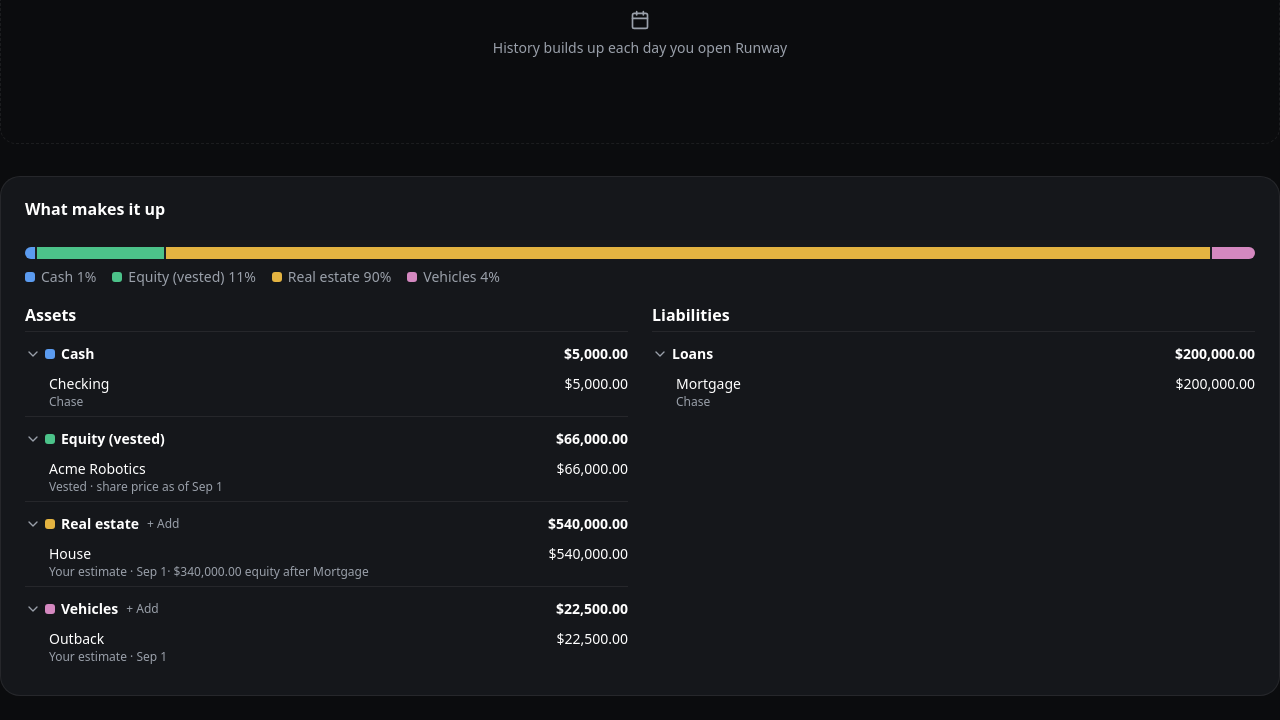
it: the breakdown › adds to a group with its + Add, starting on that kind
(page scrolled)
Click the button with aria-label "Add to Vehicles" at coordinates (142, 609), box left=126, top=601, right=159, bottom=617
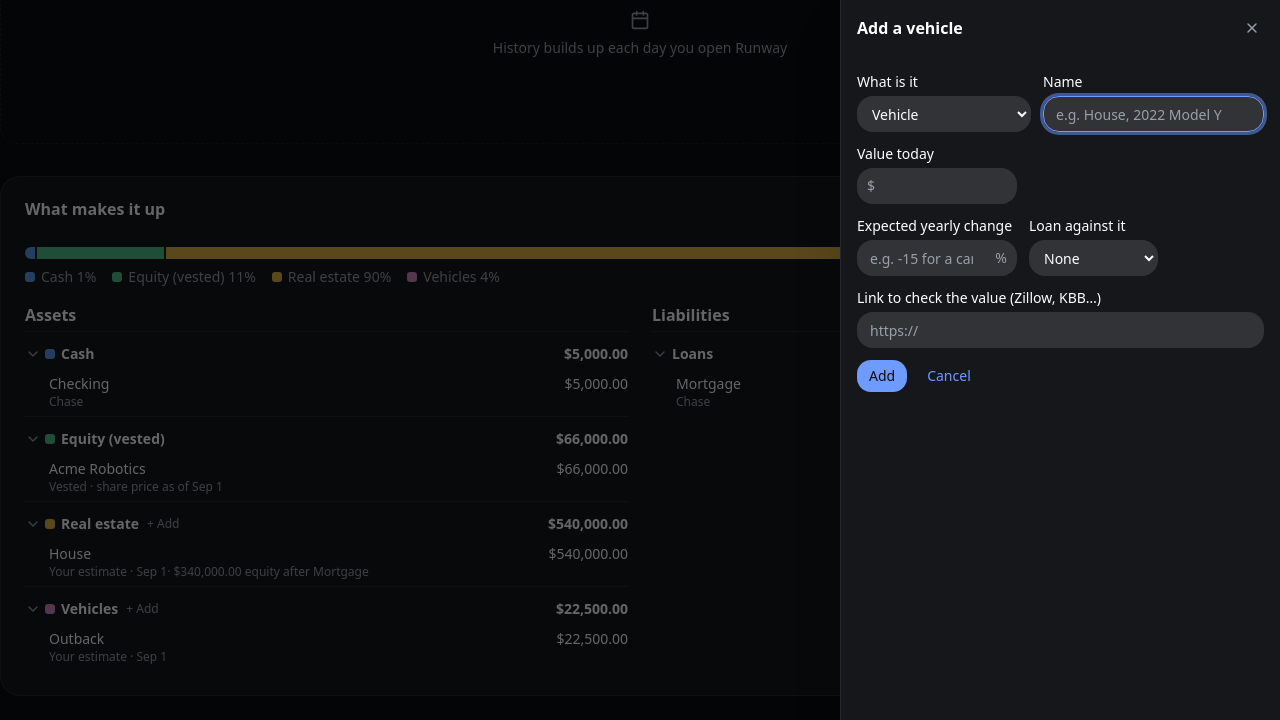
Expected: the dropdown labelled "What is it" shows "Vehicle", left=857, top=96, right=1031, bottom=132
Type "Bike" into the field labelled "Name" at coordinates (1154, 114), box left=1043, top=96, right=1264, bottom=132
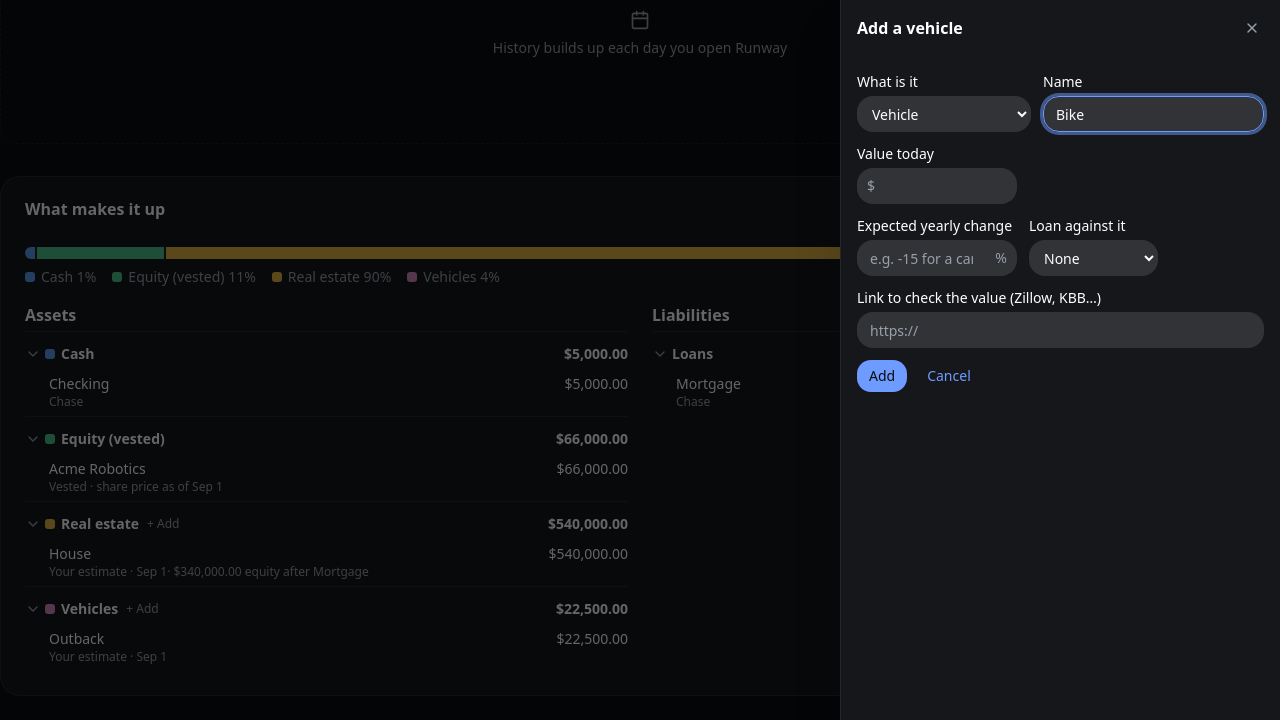
Type "800" into the field labelled "Value today $" at coordinates (937, 186), box left=857, top=168, right=1017, bottom=204
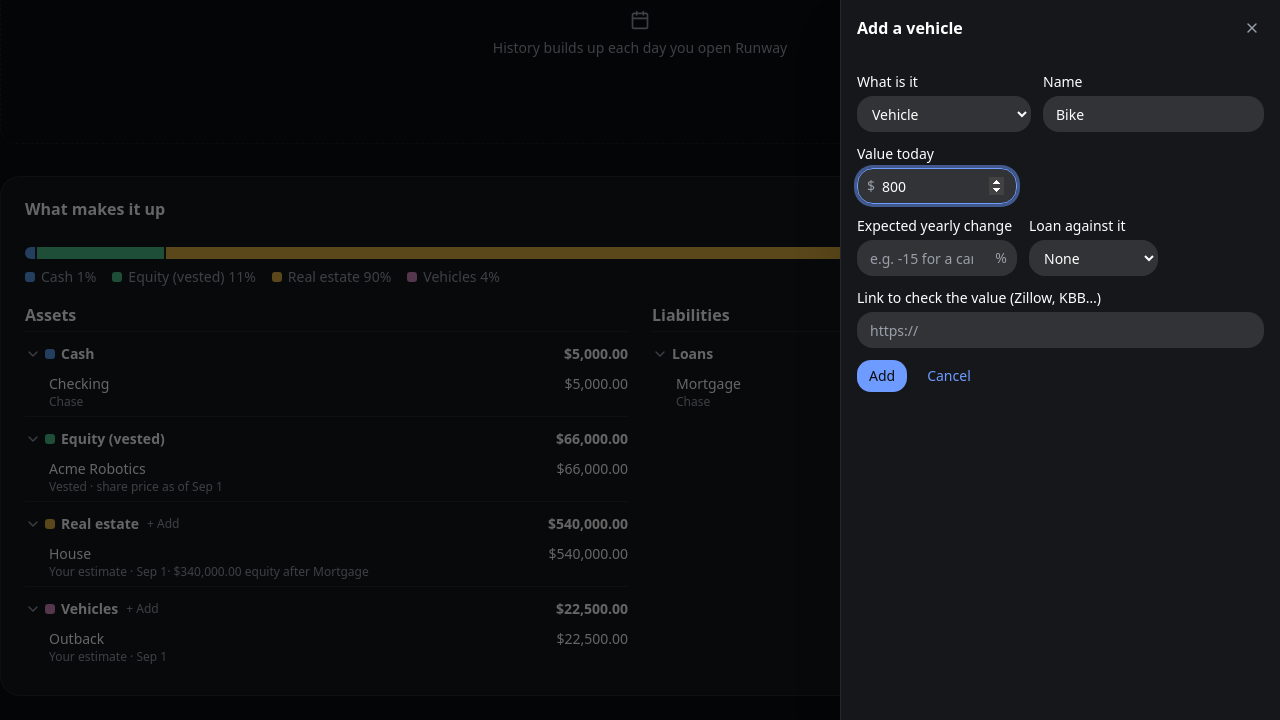
Click the button "Add" at coordinates (882, 376), box left=857, top=360, right=907, bottom=392
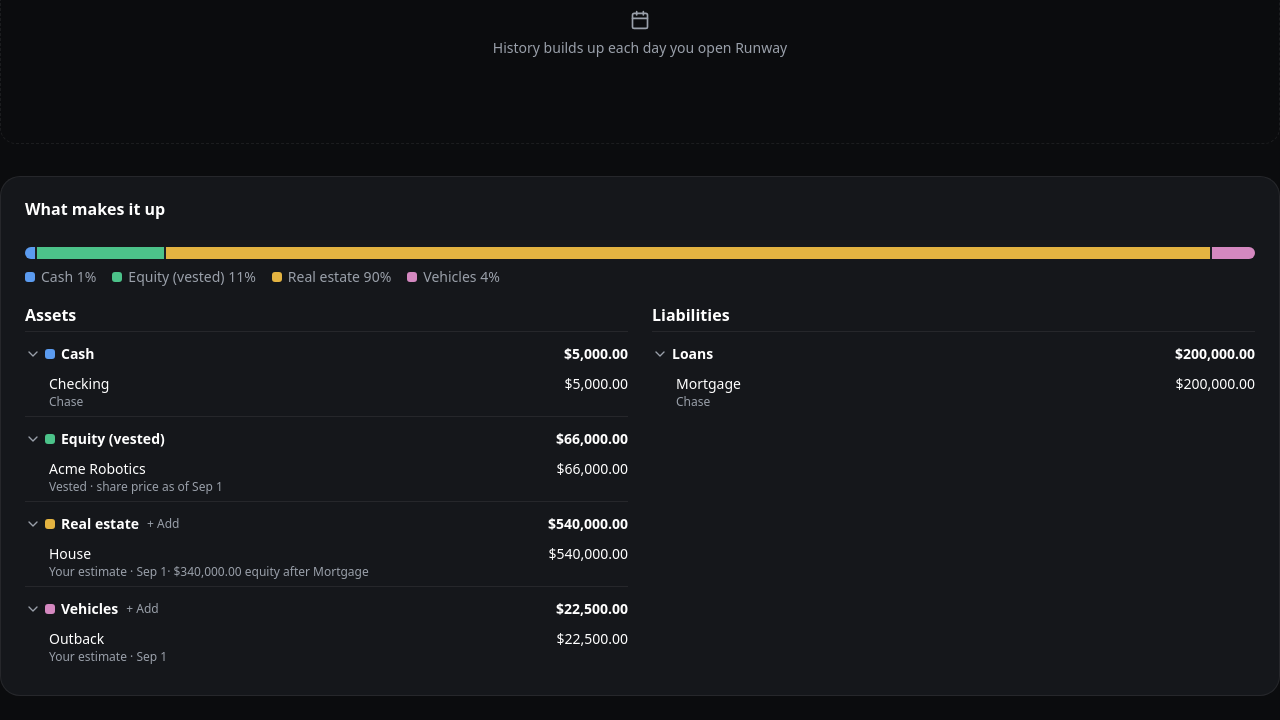
Expected: the dialog is gone
